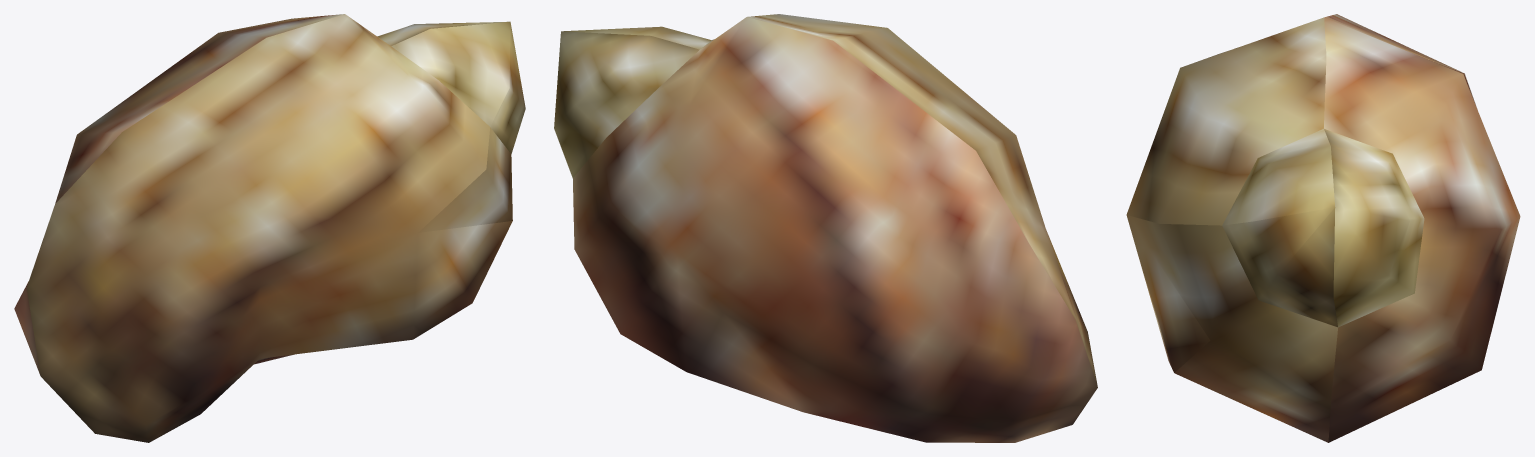
The model's file is SMSH_Shell_7.fbx.
3 views of the same model, side by side, from view 1: azimuth 30°, elevation 25°; view 2: azimuth 150°, elevation 25°; view 3: azimuth 270°, elevation 25° (orthographic). The views are drawn at different scales.
Parts seen in each view (by area): view 1: Ytlds_Shell_7; view 2: Ytlds_Shell_7; view 3: Ytlds_Shell_7.
Part boxes in pixels (x1=…): Ytlds_Shell_7: x1=14, y1=14, x2=525, y2=442; Ytlds_Shell_7: x1=554, y1=14, x2=1097, y2=442; Ytlds_Shell_7: x1=1126, y1=14, x2=1520, y2=442.
Size of the model in its own units: 18.8 by 12.93 by 11.82.
